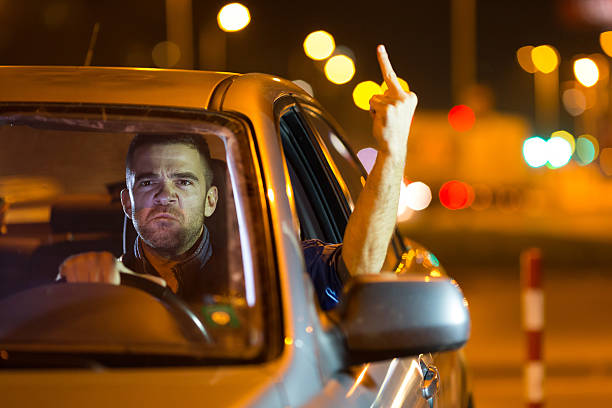insulting_gesture: (363, 42, 422, 152)
